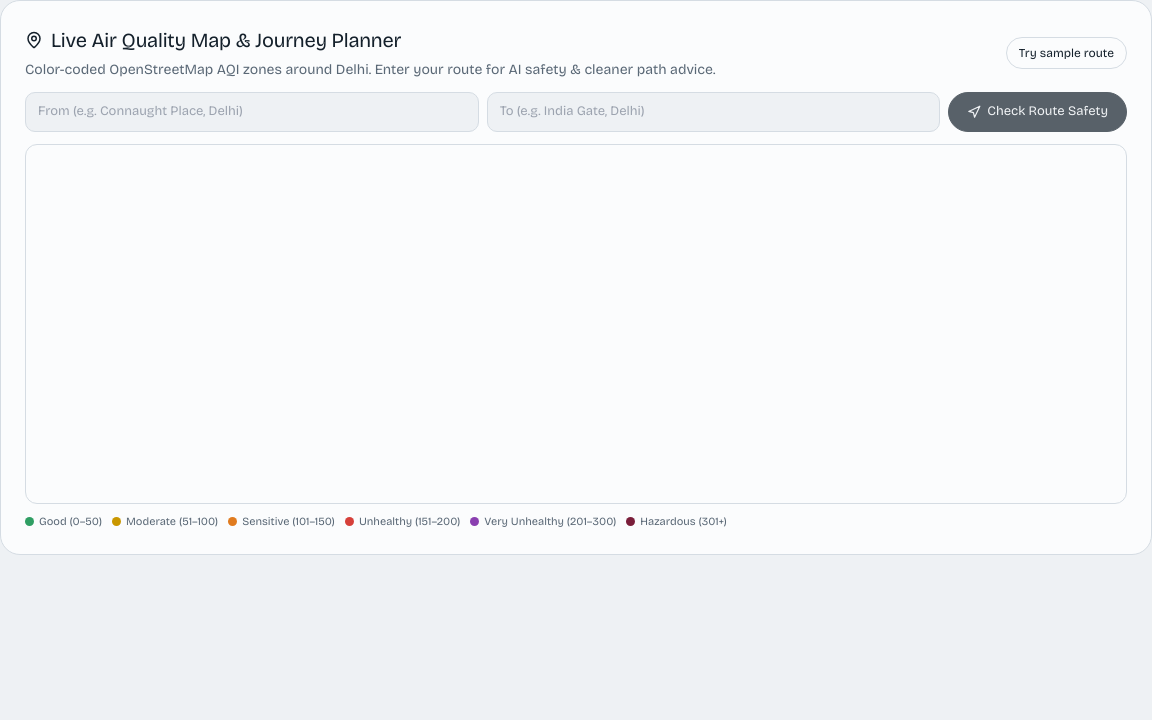
AirQualityMap component › loads AQI grid, evaluates multi-route journeys, updates on city switch, and handles errors
Later steps or results of the test are not shown.
Expected: the heading "Live Air Quality Map & Journey Planner" is shown, x1=25 y1=28 x2=401 y2=52
Expected: the element named "Interactive OpenStreetMap air quality map for Delhi" is shown, x1=25 y1=144 x2=1127 y2=504
What coordinates should you click on to do the following:
click the button "Try sample route"
I would click on:
 (1066, 52)
Its box is x1=1006 y1=36 x2=1127 y2=68.
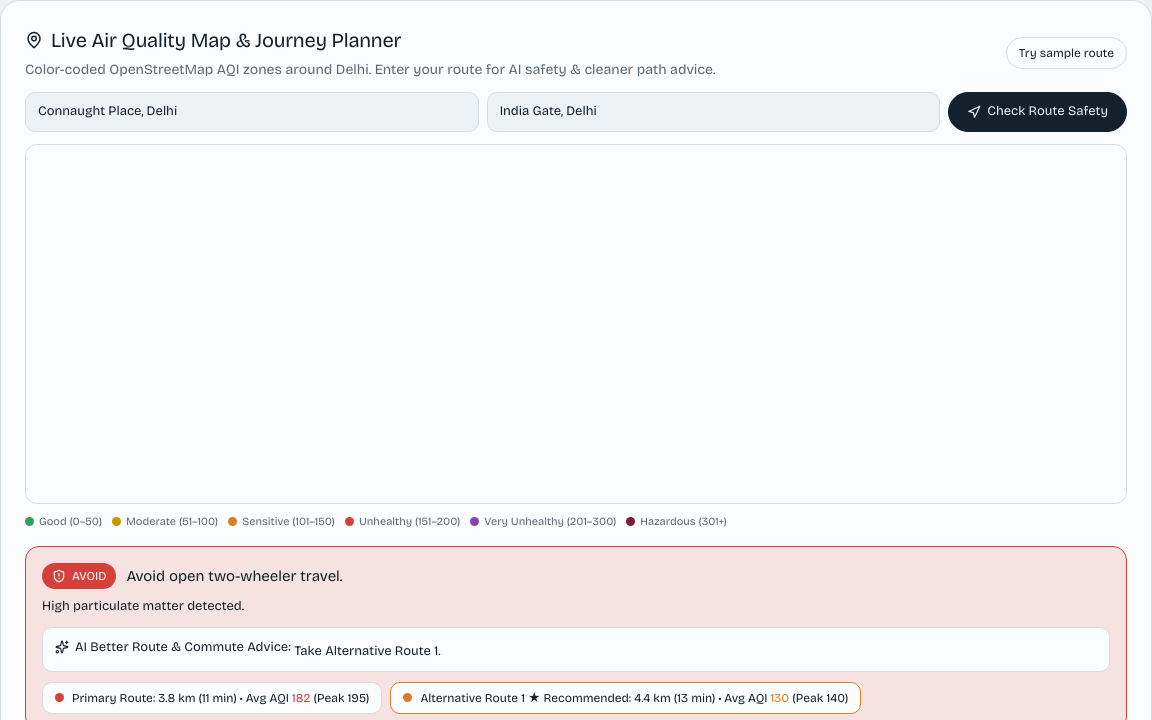
Expected: the text "Avoid open two-wheeler travel." is shown, x1=126 y1=565 x2=342 y2=587
Expected: the text "Take Alternative Route 1." is shown, x1=294 y1=642 x2=440 y2=658
